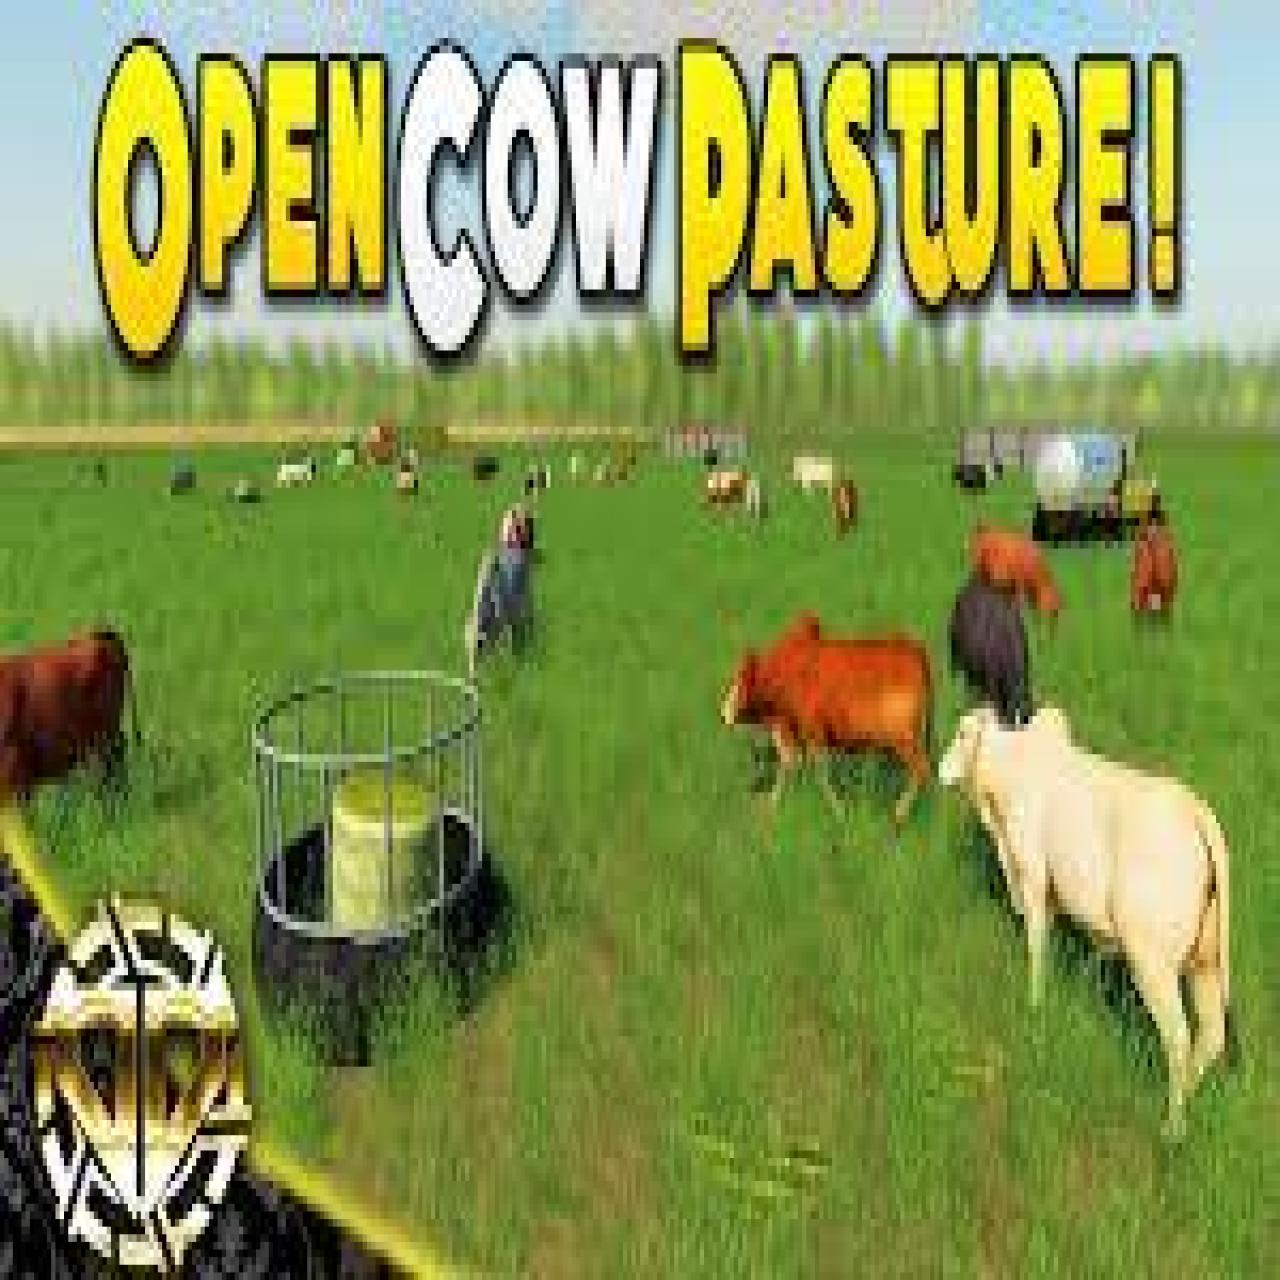cow: (937, 716, 1226, 1143), (717, 644, 942, 835), (0, 628, 132, 835), (952, 579, 1033, 731), (463, 542, 531, 678), (971, 530, 1064, 621), (1129, 530, 1176, 621), (794, 461, 836, 499), (836, 488, 858, 542)
